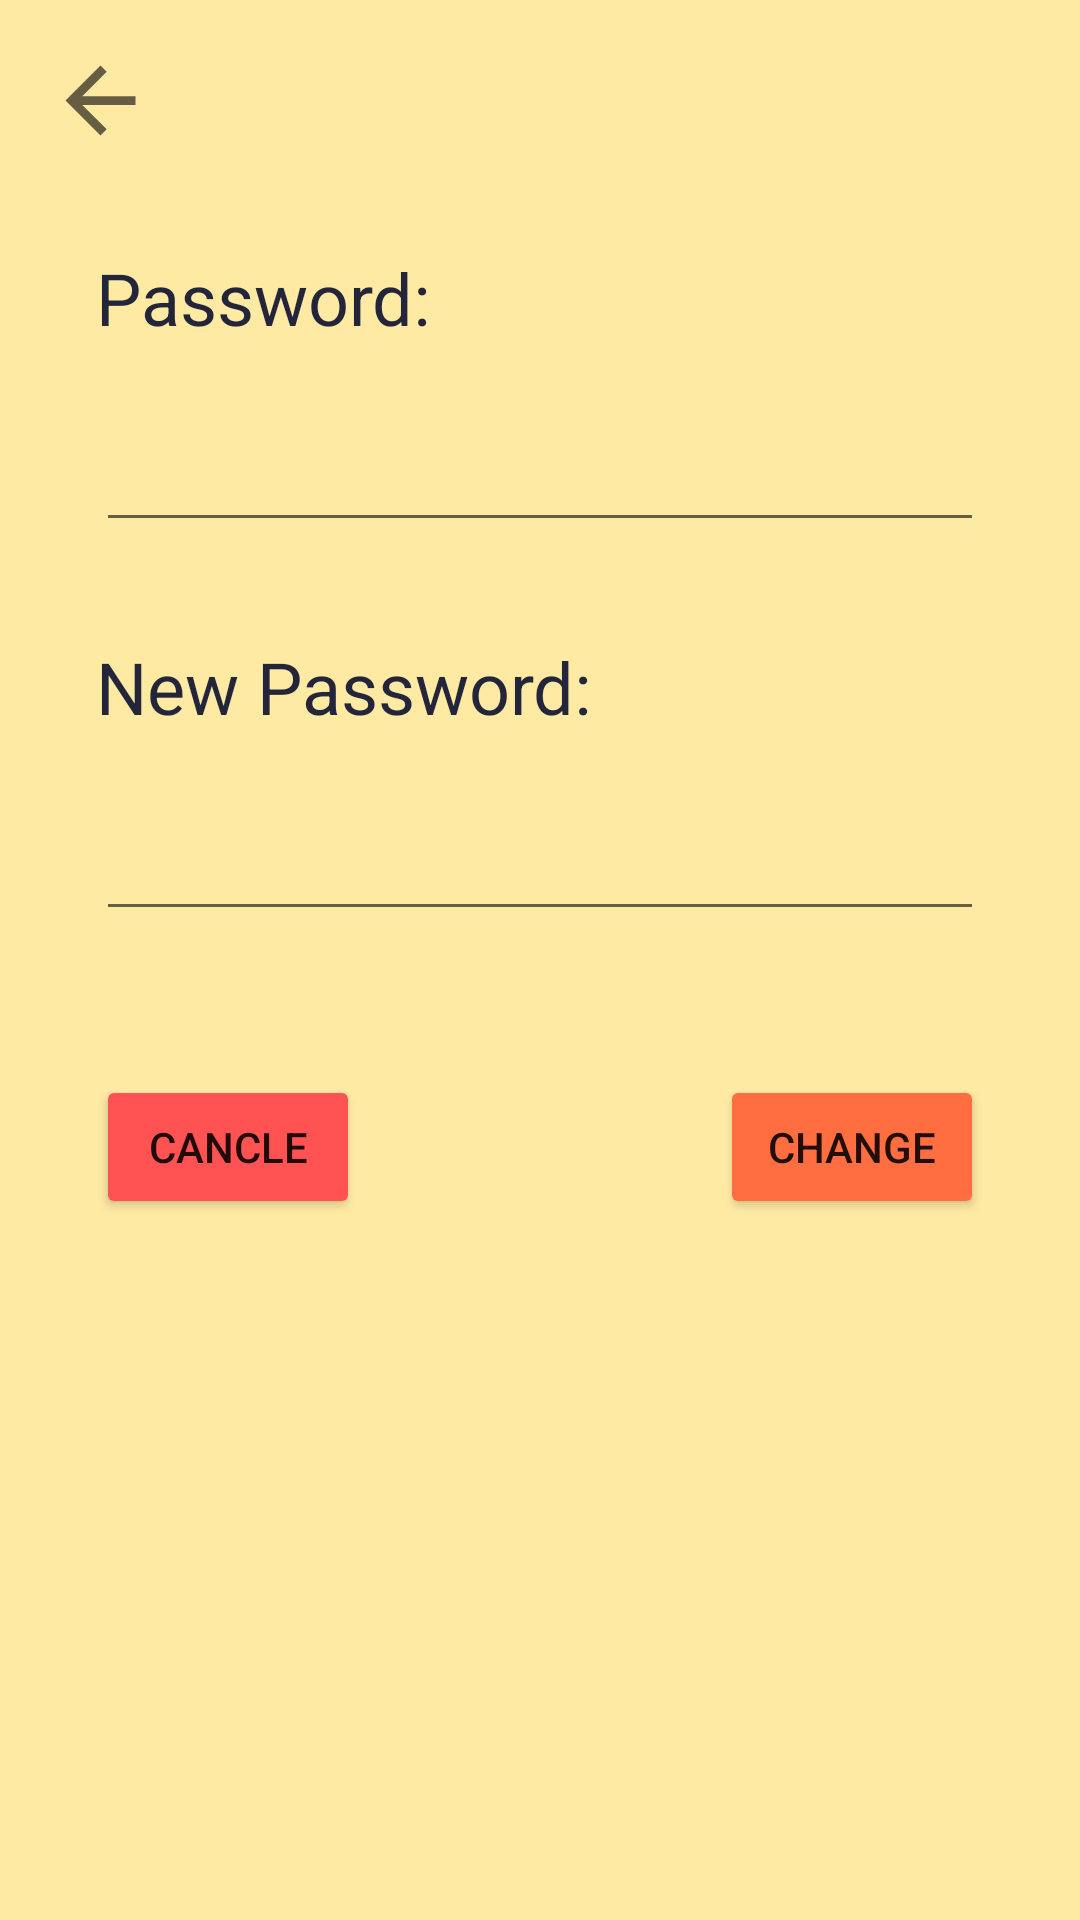

Screen size 1080*1920. Icon name, then its box in pixels as bbox=[x1, y1, x2, y2]:
arrow back: bbox=[65, 65, 136, 136]
